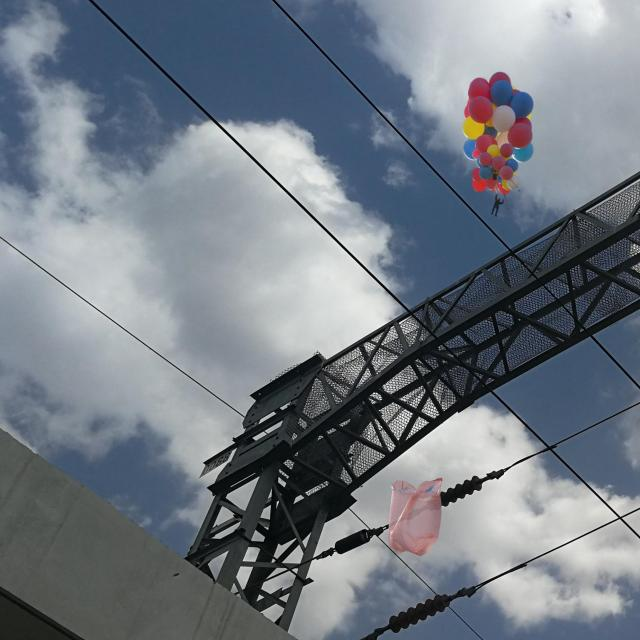balloon: (452, 62, 542, 216)
floating object: (458, 66, 535, 210), (388, 477, 441, 556)
